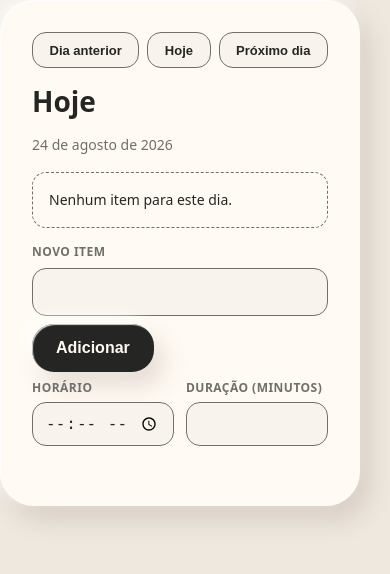
Test: DailyAgenda › navigates to the previous day and shows a non-"Hoje" heading with a readable date
Click the button "Dia anterior". click: (86, 50)
box: top-left (32, 32), bottom-right (139, 68)
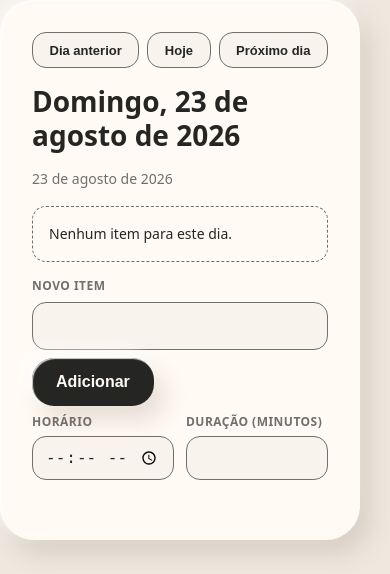
expect the text "23 de agosto de 2026" is shown: met, box top-left (32, 169), bottom-right (173, 188)
